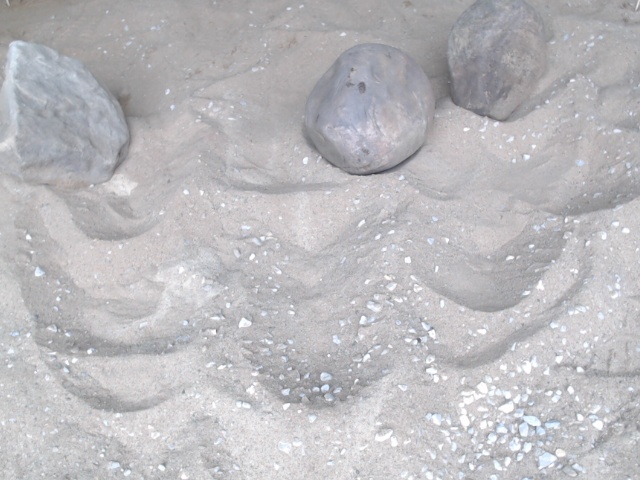rock: (1, 35, 135, 196), (298, 39, 440, 181), (443, 1, 552, 127)
